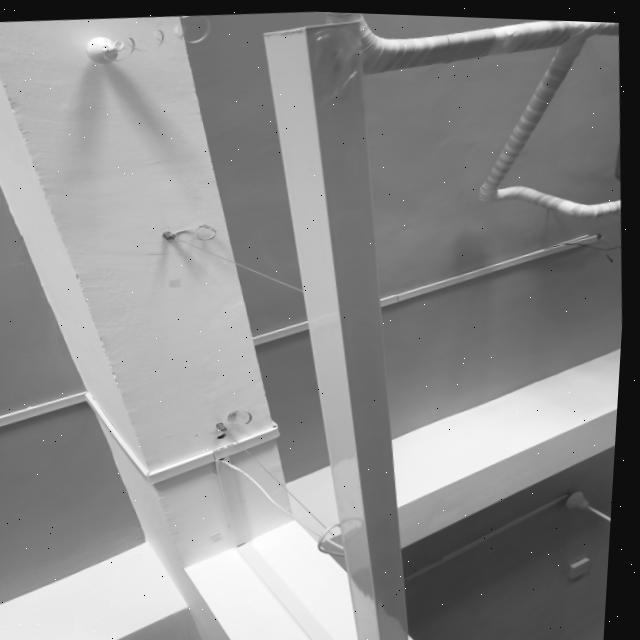light_off: (211, 7, 461, 640)
